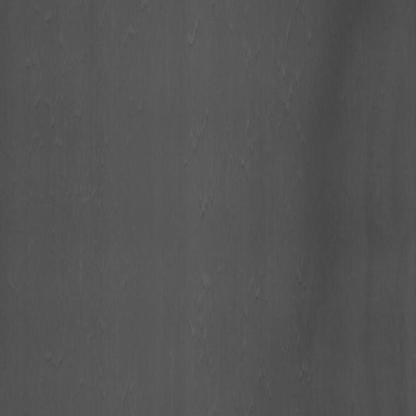silk_spot: (184, 122, 290, 226), (249, 29, 311, 118)
